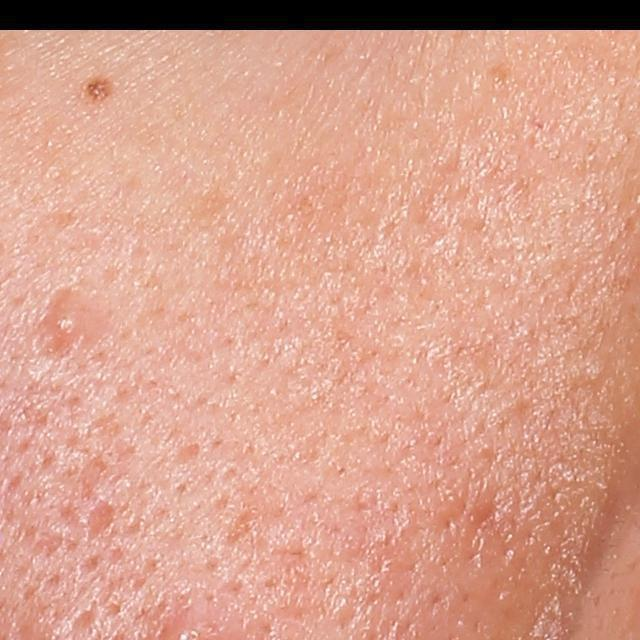atrophic_scar: (85, 498, 114, 545)
comedo: (576, 365, 603, 385)
nevus: (75, 73, 114, 106)
papule: (31, 285, 105, 358)
